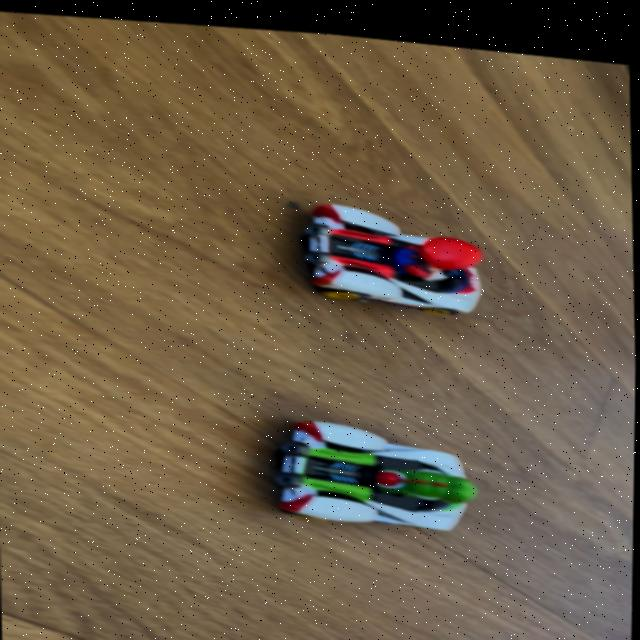mario: (280, 176, 508, 316)
yoshi: (261, 392, 501, 535)
